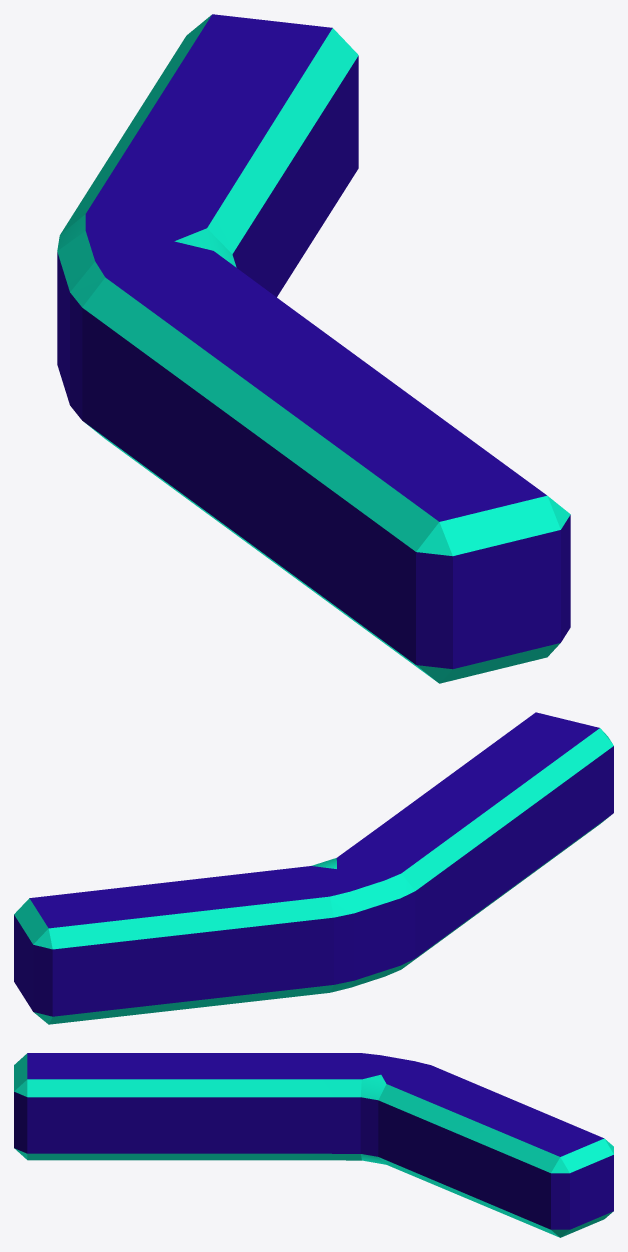
Rendered from LaneRight.obj.
The picture shows the model from 3 angles, top to bottom: view 1: azimuth 30°, elevation 25°; view 2: azimuth 150°, elevation 25°; view 3: azimuth 270°, elevation 25°; orthographic projection. The views are drawn at different scales.
Visible parts, largest first — view 1: pCube1; view 2: pCube1; view 3: pCube1.
Part boxes in pixels (x1,y1,x2,y2): pCube1: [57, 14, 570, 683]; pCube1: [14, 712, 613, 1024]; pCube1: [14, 1053, 613, 1237].
Size of the model in its own units: 1.51 by 0.5 by 3.36.
1 material, 1 textured.
